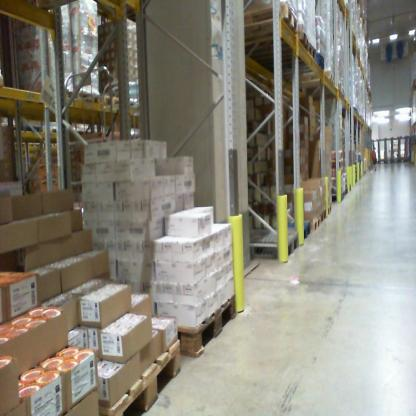pallet: (97, 331, 183, 414), (169, 293, 245, 364), (241, 1, 299, 43), (241, 24, 310, 51), (241, 231, 300, 262), (264, 41, 317, 63), (266, 53, 324, 73), (77, 91, 127, 109), (271, 217, 312, 236), (327, 148, 343, 164), (327, 160, 345, 172), (309, 217, 321, 230), (318, 207, 327, 222), (328, 202, 333, 216)
